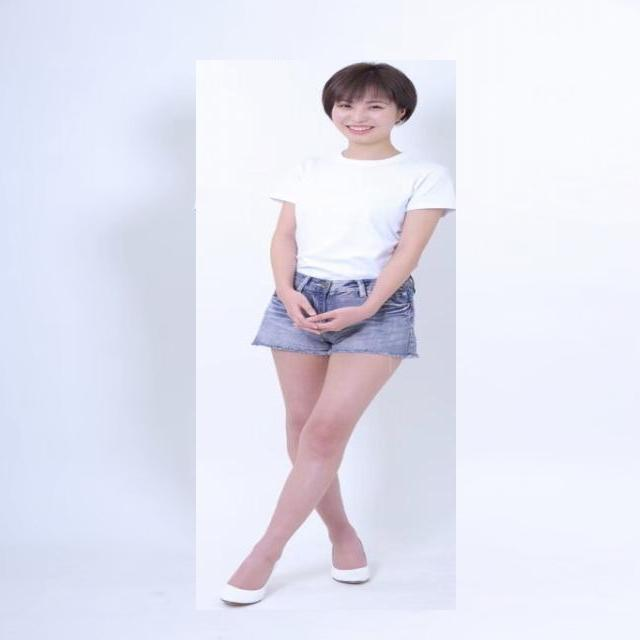direk: (196, 60, 456, 610)
